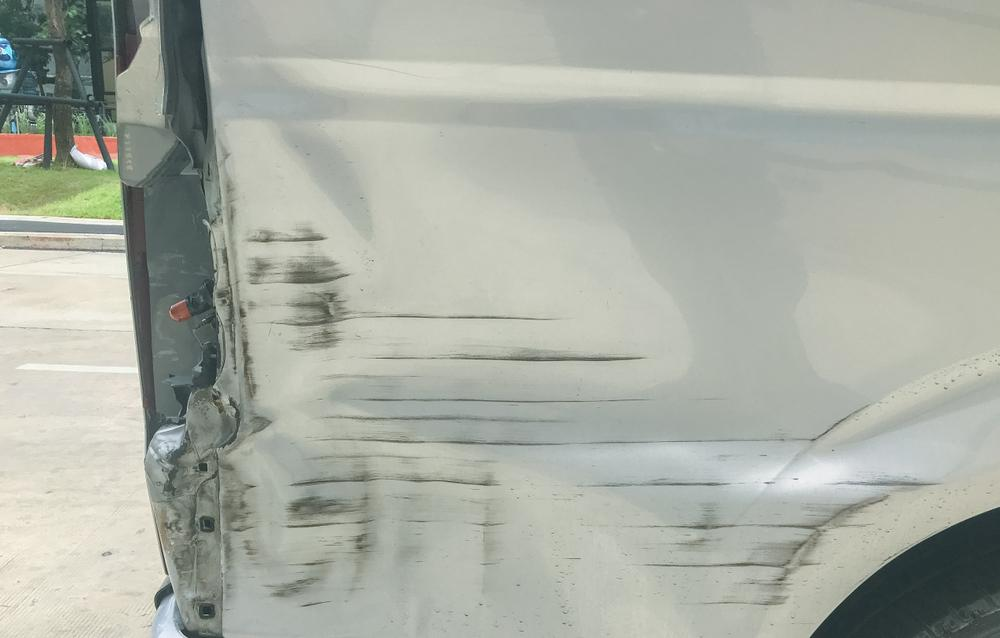dent: (206, 0, 990, 638)
scratch: (549, 466, 951, 617)
